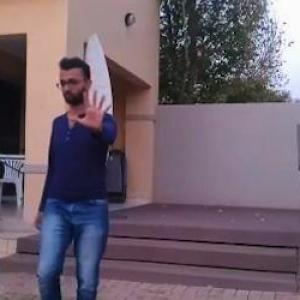follow_hand: (65, 82, 116, 136)
